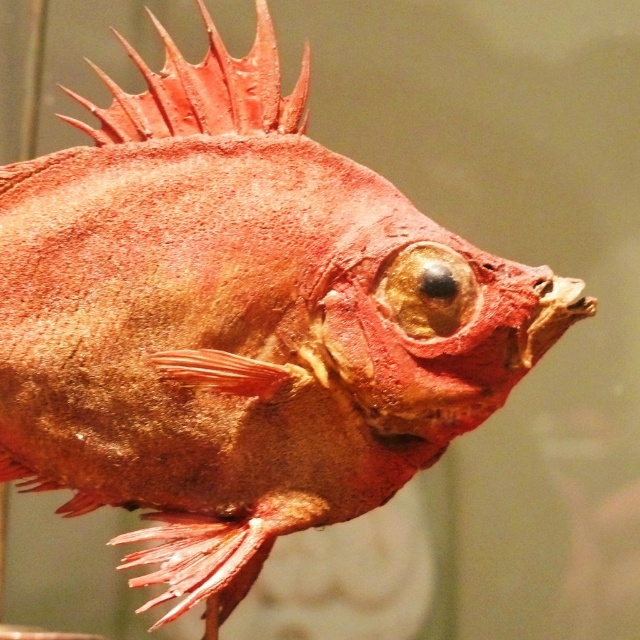Fish: (0, 0, 598, 640)
